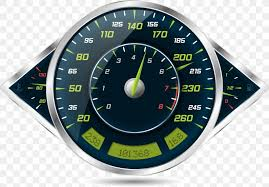Digital_Meter: (109, 141, 162, 161)
